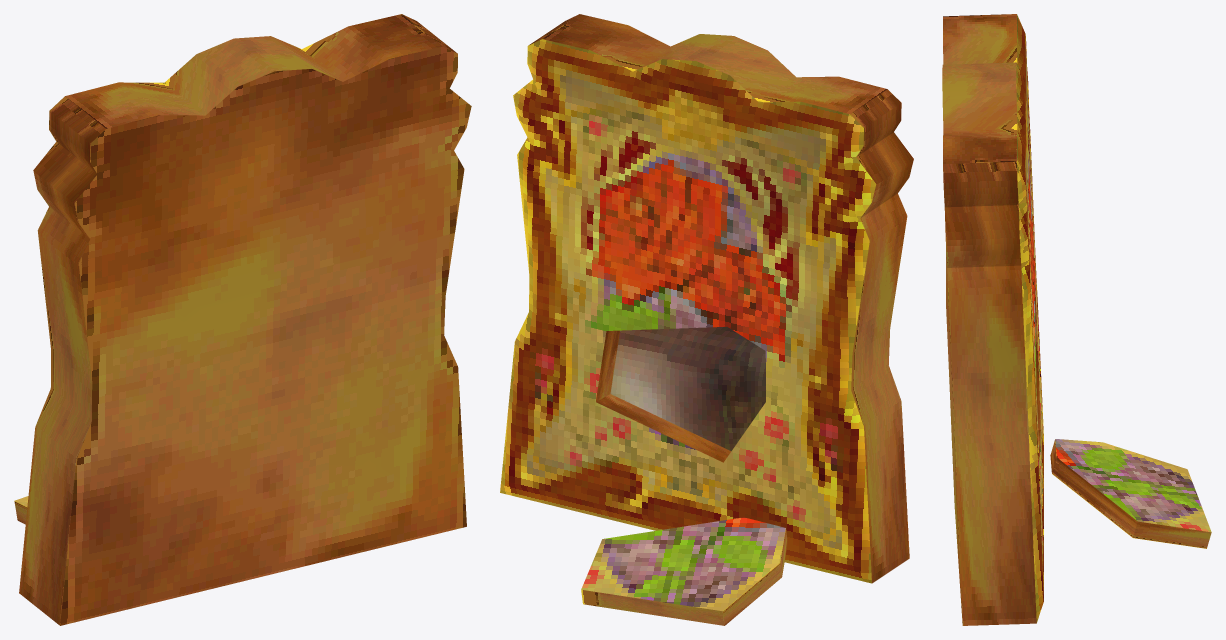
The model's file is ps2_save-icons_glassrose-gamedata.glb.
3 renders of one model, left to right at view 1: azimuth 30°, elevation 25°; view 2: azimuth 150°, elevation 25°; view 3: azimuth 270°, elevation 25°, orthographic. The views are drawn at different scales.
Parts seen in each view (by area): view 1: grose.ico; view 2: grose.ico; view 3: grose.ico.
Boxes of the visible parts, x1,y1,x2,y2 form: grose.ico: (14,14,471,625); grose.ico: (500,14,913,625); grose.ico: (942,14,1211,625).
Bounding box in the file's own units: 3.1 × 3.79 × 1.98.
Materials: 1 (1 with a texture image).
